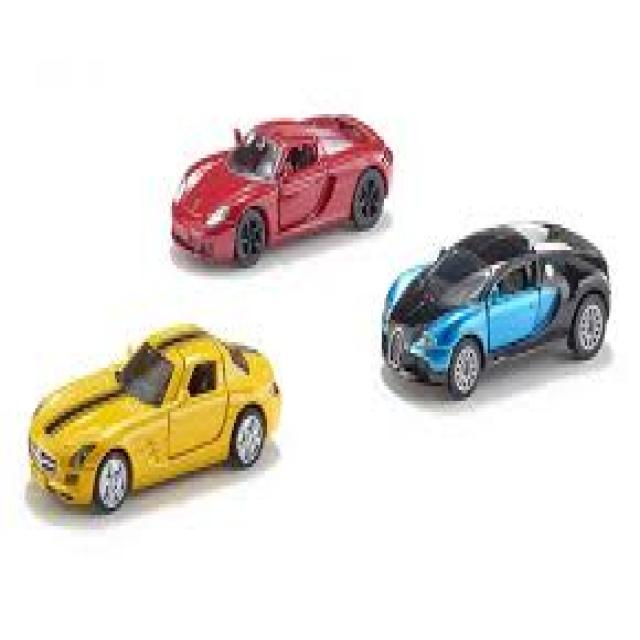Car: (26, 320, 282, 511), (380, 217, 611, 397), (170, 110, 393, 265)
